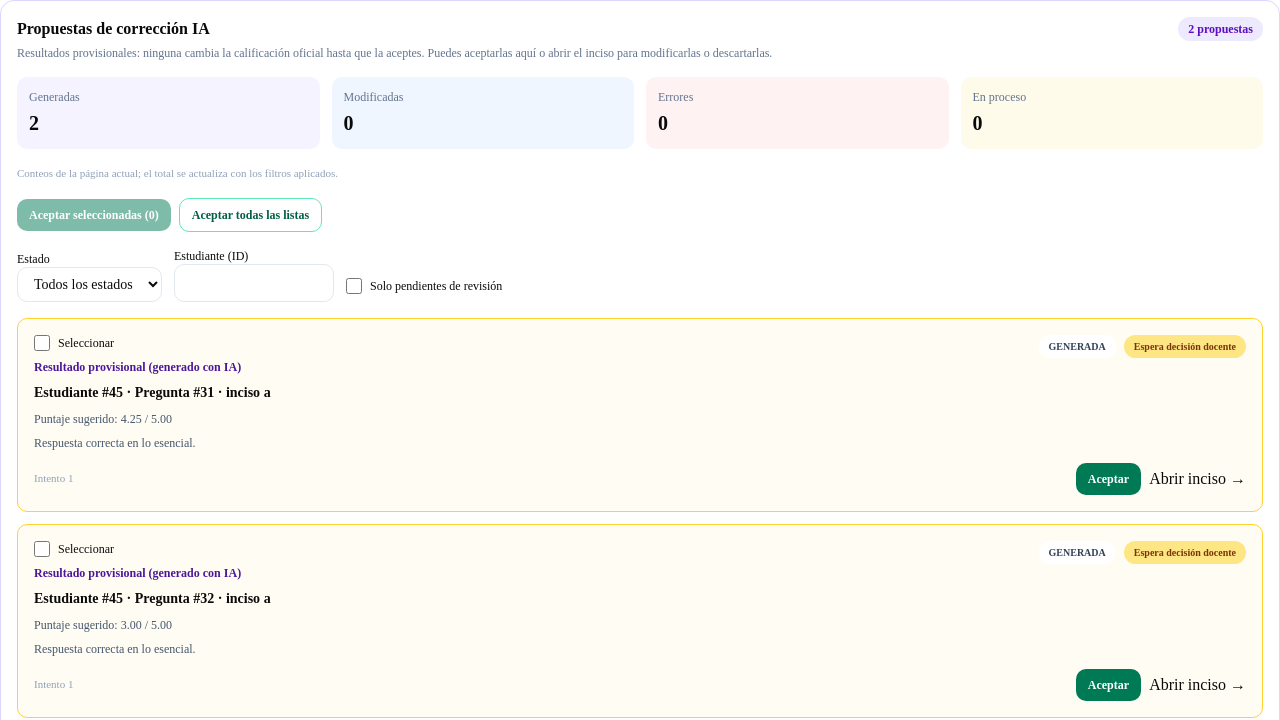
it: aceptación desde la bandeja › acepta solo las propuestas seleccionadas con su versión y puntaje
This screenshot has width=1280, height=720.
What coordinates should you click on to do the following:
click the checkbox named "Seleccionar propuesta 1"
I would click on:
 (42, 342)
Its box is [34, 334, 50, 350].
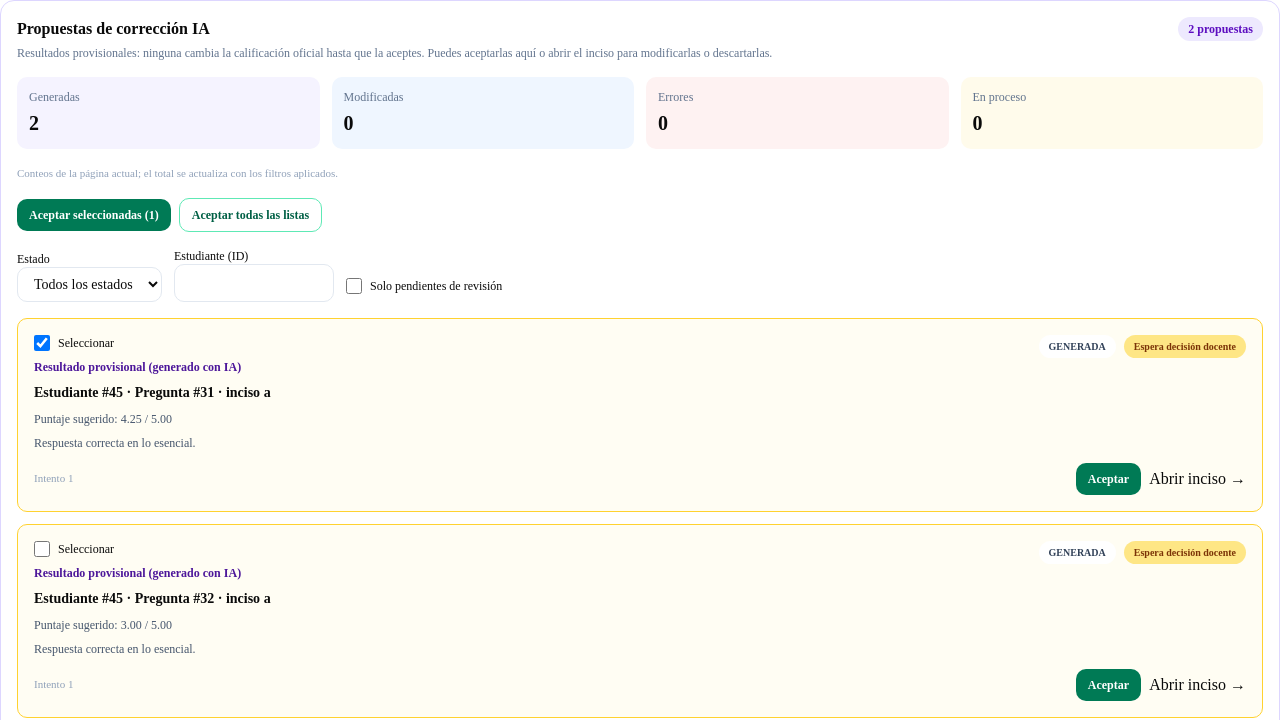
What coordinates should you click on to do the following:
click the button "Aceptar seleccionadas (1)"
I would click on:
 (94, 214)
Its box is [17, 198, 171, 230].
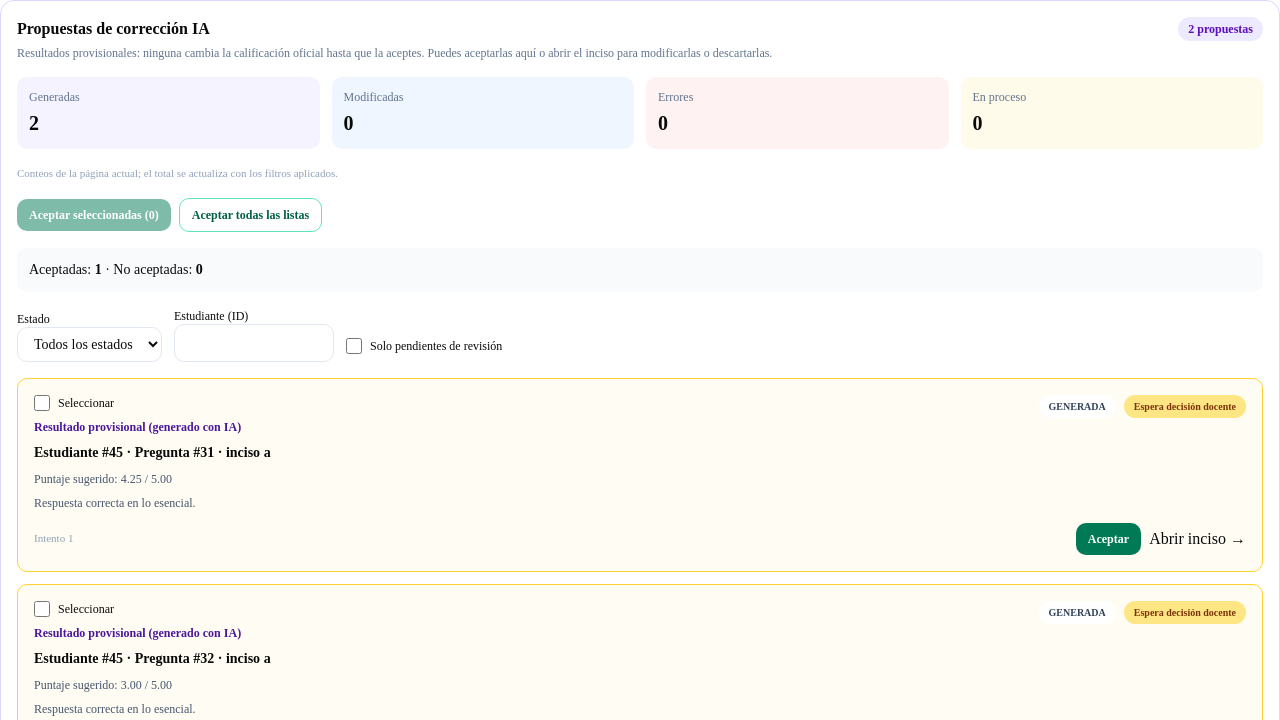
Check: the message named "Resultado de la aceptación" shows "Aceptadas: 1", box [17, 248, 1263, 292]
